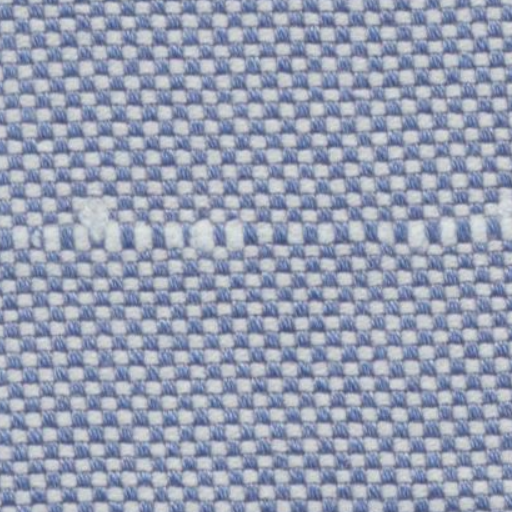DaiSha: (1, 194, 504, 260)
